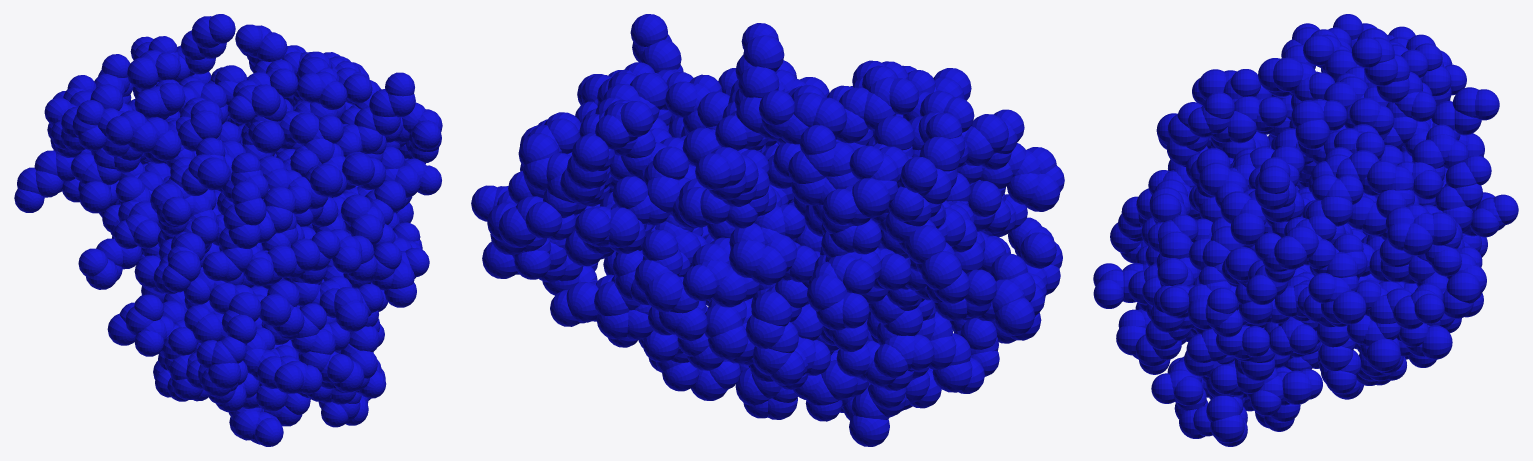
The model's file is 1mbn__spheres__b-factor.glb.
3 renders of one model, left to right at view 1: azimuth 30°, elevation 25°; view 2: azimuth 150°, elevation 25°; view 3: azimuth 270°, elevation 25°, orthographic. The views are drawn at different scales.
Visible parts, largest first — view 1: Renderer Node; view 2: Renderer Node; view 3: Renderer Node.
Part boxes in pixels (x1,y1,x2,y2): Renderer Node: (14, 14, 442, 446); Renderer Node: (471, 14, 1064, 446); Renderer Node: (1093, 14, 1518, 446).
Bounding box in the file's own units: 45.93 × 42.13 × 41.97.
